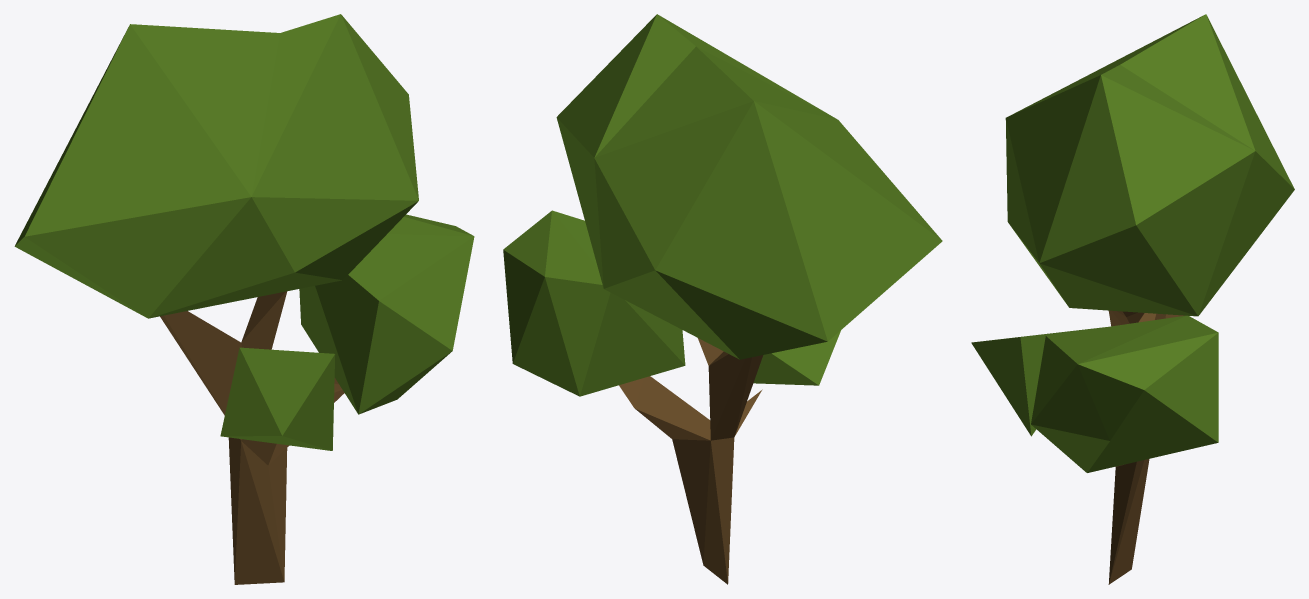
The model's file is temp-decid.tall-op0.15.gltf.
The picture shows the model from 3 angles, left to right: view 1: azimuth 30°, elevation 25°; view 2: azimuth 150°, elevation 25°; view 3: azimuth 270°, elevation 25°; orthographic projection. The views are drawn at different scales.
Parts seen in each view (by area): view 1: Tree1_1; view 2: Tree1_1; view 3: Tree1_1.
Part boxes in pixels (x1,y1,x2,y2): Tree1_1: (14,14,474,584); Tree1_1: (503,14,942,584); Tree1_1: (971,14,1294,584).
Size of the model in its own units: 6.08 by 7.33 by 4.01.
1 material, 1 textured.
